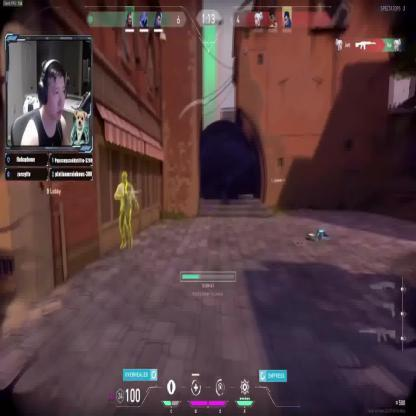enemy: (114, 171, 138, 250)
enemy_head: (121, 172, 128, 184)
